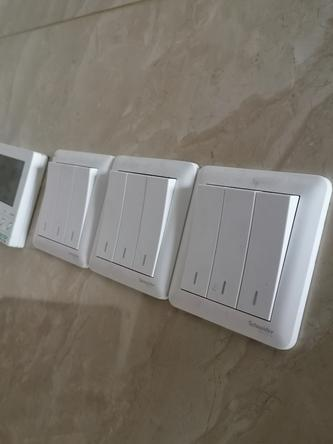switch: (234, 185, 301, 323), (206, 180, 257, 307), (180, 175, 226, 295), (131, 170, 175, 279), (113, 165, 150, 270), (93, 165, 127, 261)
